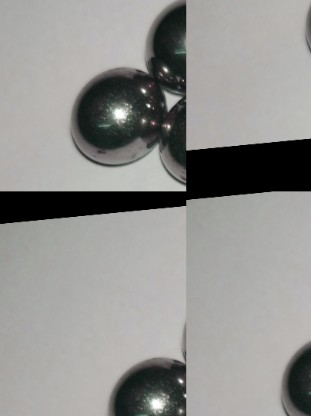ironball: (70, 61, 168, 169), (101, 351, 189, 414), (141, 0, 185, 93), (276, 332, 309, 414), (160, 96, 185, 189)
